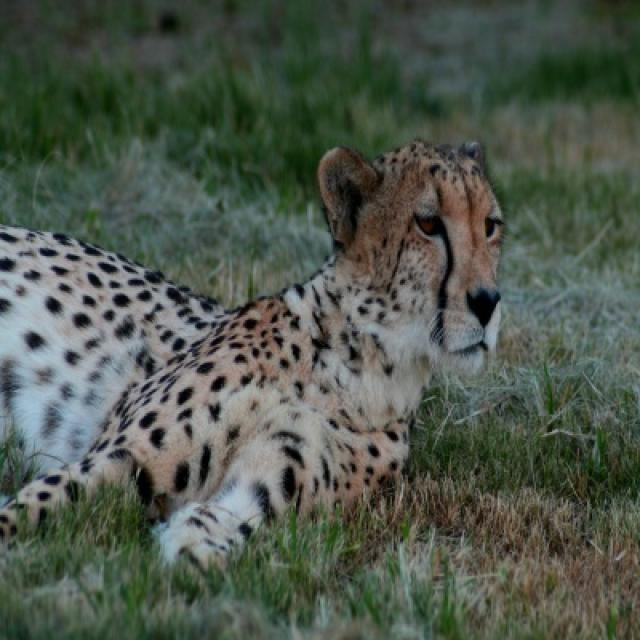Cheetah: (0, 141, 507, 576)
